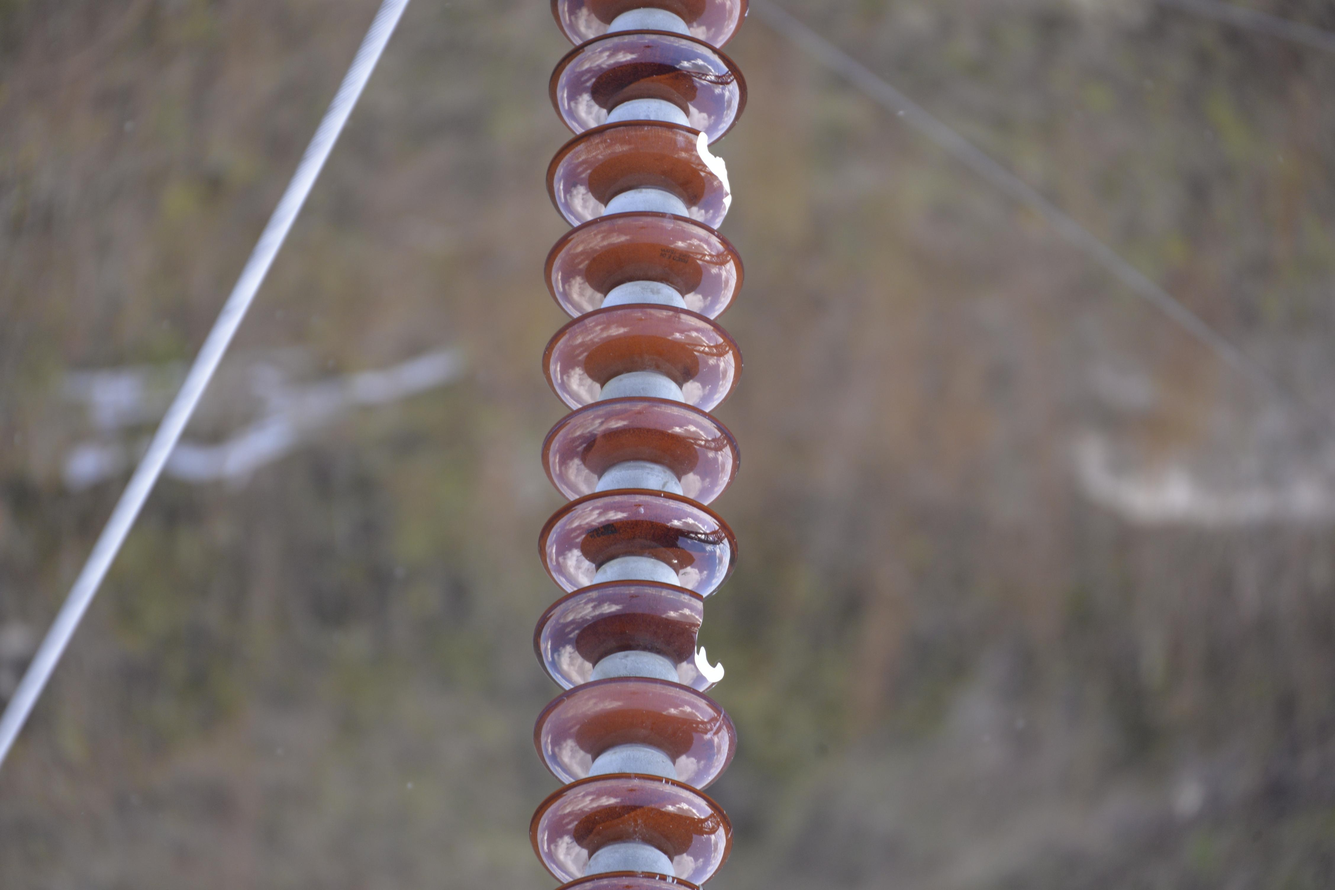damaged: (665, 589, 736, 687), (682, 128, 738, 232)
insulator: (534, 0, 749, 890)
